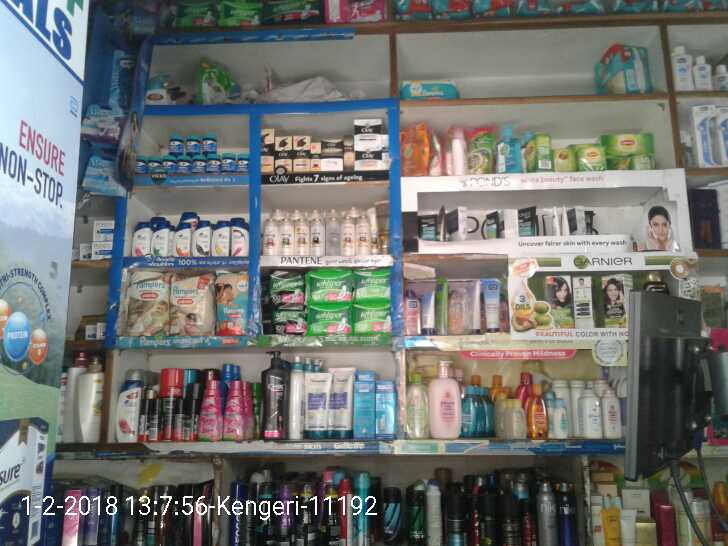beauty: (351, 106, 381, 155), (317, 134, 347, 177), (129, 211, 150, 261), (290, 137, 313, 180), (355, 213, 378, 254), (229, 210, 249, 257), (330, 213, 352, 254), (259, 214, 277, 258), (273, 218, 294, 255), (274, 130, 290, 178), (351, 147, 383, 171), (304, 215, 324, 253), (173, 211, 188, 261), (153, 215, 170, 259), (287, 216, 306, 255), (211, 219, 227, 254), (195, 223, 209, 255)
pharmacy: (123, 263, 169, 337), (165, 263, 207, 336), (208, 266, 246, 332), (135, 151, 247, 170), (307, 269, 354, 305), (304, 305, 352, 339), (269, 268, 304, 309), (267, 307, 310, 340), (351, 308, 394, 337), (352, 270, 388, 302), (160, 125, 180, 155), (197, 120, 213, 149), (183, 125, 197, 154)
